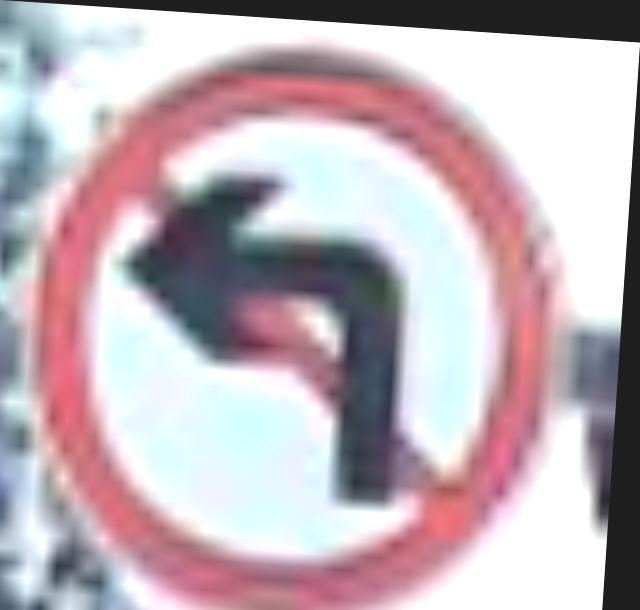not_turn_left: (14, 35, 572, 610)
